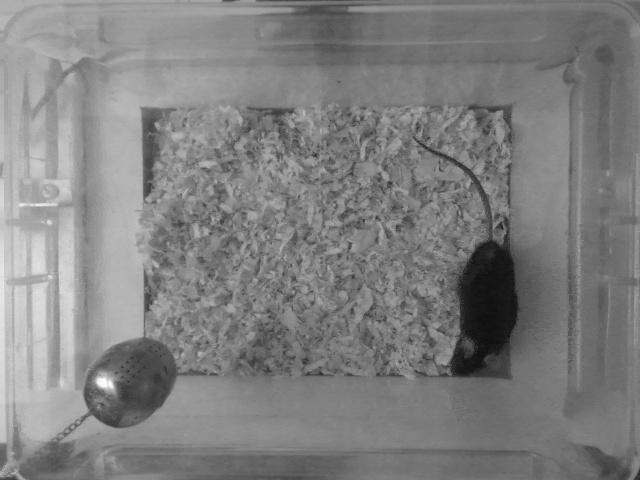mice: (403, 129, 527, 381)
